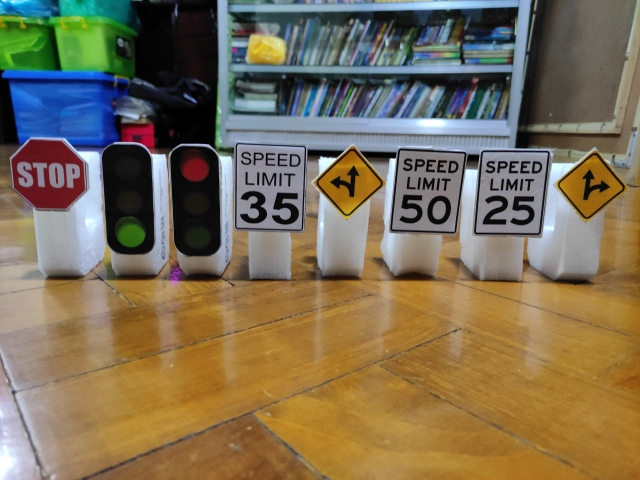Green Traffic Light: (100, 142, 157, 256)
Red Traffic Light: (169, 142, 222, 257)
Speed Limit 25: (473, 148, 552, 236)
Speed Limit 35: (232, 141, 310, 235)
Speed Limit 50: (388, 147, 467, 236)
Stop Sign: (8, 135, 89, 213)
Straight Or Left Sign: (315, 149, 384, 217)
Straight Or Right Sign: (556, 151, 625, 221)
